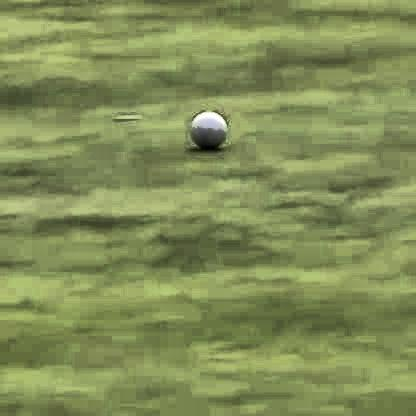golfball: (188, 106, 225, 145)
